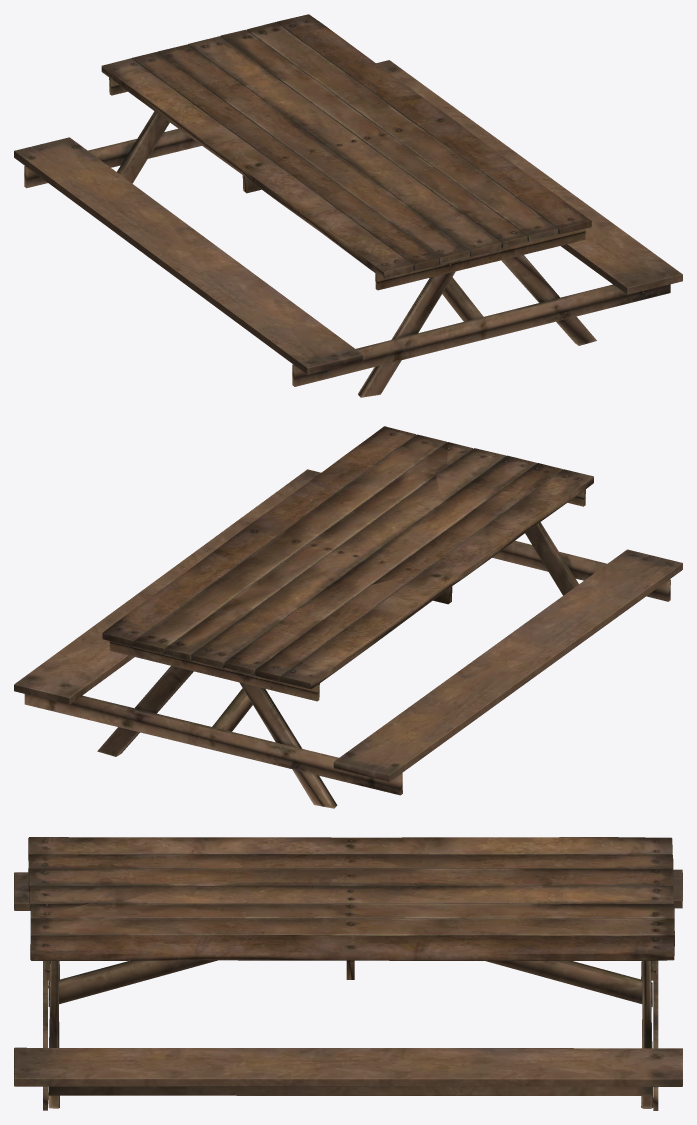
File: wooden_picnic_table.glb
3 renders of one model, top to bottom at view 1: azimuth 30°, elevation 25°; view 2: azimuth 150°, elevation 25°; view 3: azimuth 270°, elevation 25°, orthographic. The views are drawn at different scales.
Visible parts, largest first — view 1: wooden_picnic_table; view 2: wooden_picnic_table; view 3: wooden_picnic_table.
Boxes of the visible parts, x1,y1,x2,y2 form: wooden_picnic_table: (14,14,682,397); wooden_picnic_table: (14,426,682,808); wooden_picnic_table: (14,837,682,1110).
Size of the model in its own units: 2.24 by 0.7453 by 3.02.
2 materials, 2 textured.
